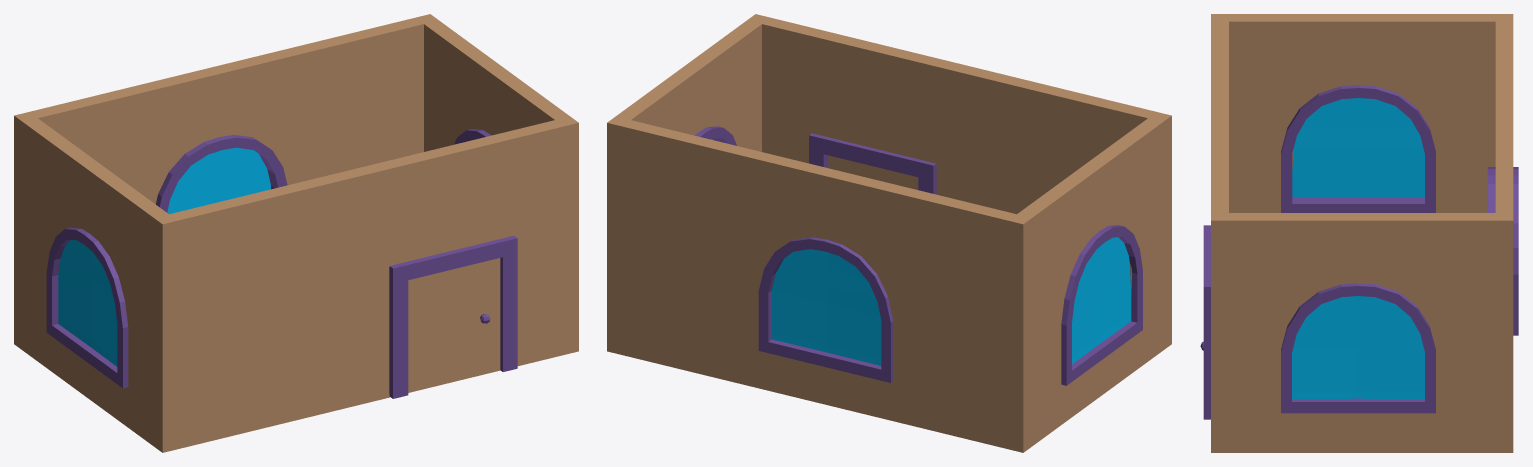
Rendered from CajaCasa 1.4 Interior 2.fbx.
3 renders of one model, left to right at view 1: azimuth 30°, elevation 25°; view 2: azimuth 150°, elevation 25°; view 3: azimuth 270°, elevation 25°, orthographic.
Visible parts, largest first — view 1: Casa 4.004; view 2: Casa 4.004; view 3: Casa 4.004.
Boxes of the visible parts, <box> form: Casa 4.004: <box>14,14,578,452</box>; Casa 4.004: <box>607,14,1171,452</box>; Casa 4.004: <box>1200,14,1518,452</box>.
Bounding box in the file's own units: 1147 × 587 × 728.
